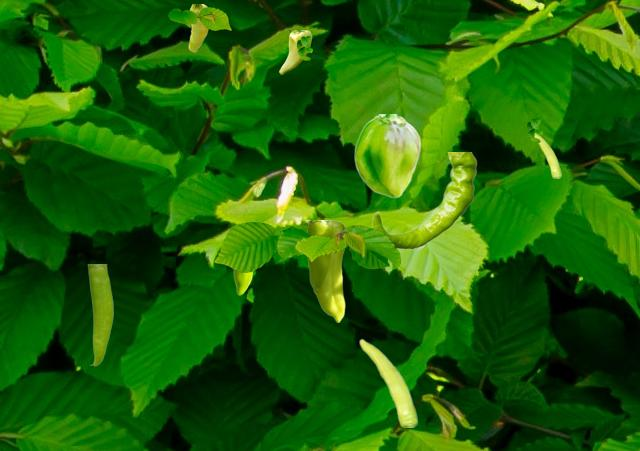green_chili: (372, 152, 476, 249), (354, 114, 420, 197), (359, 338, 416, 426), (305, 220, 344, 321), (87, 264, 112, 365), (279, 30, 310, 73), (535, 135, 560, 177), (188, 4, 208, 51), (233, 270, 253, 294)
